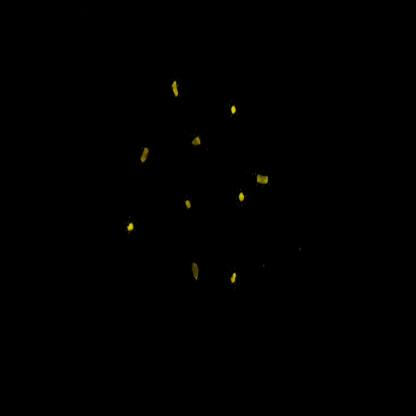PE: (176, 182, 209, 237), (120, 208, 142, 248), (225, 192, 249, 225), (224, 94, 241, 127), (230, 270, 248, 299)
PP: (186, 124, 209, 161), (182, 254, 204, 292), (256, 159, 277, 194), (137, 144, 159, 177), (168, 73, 189, 107)
